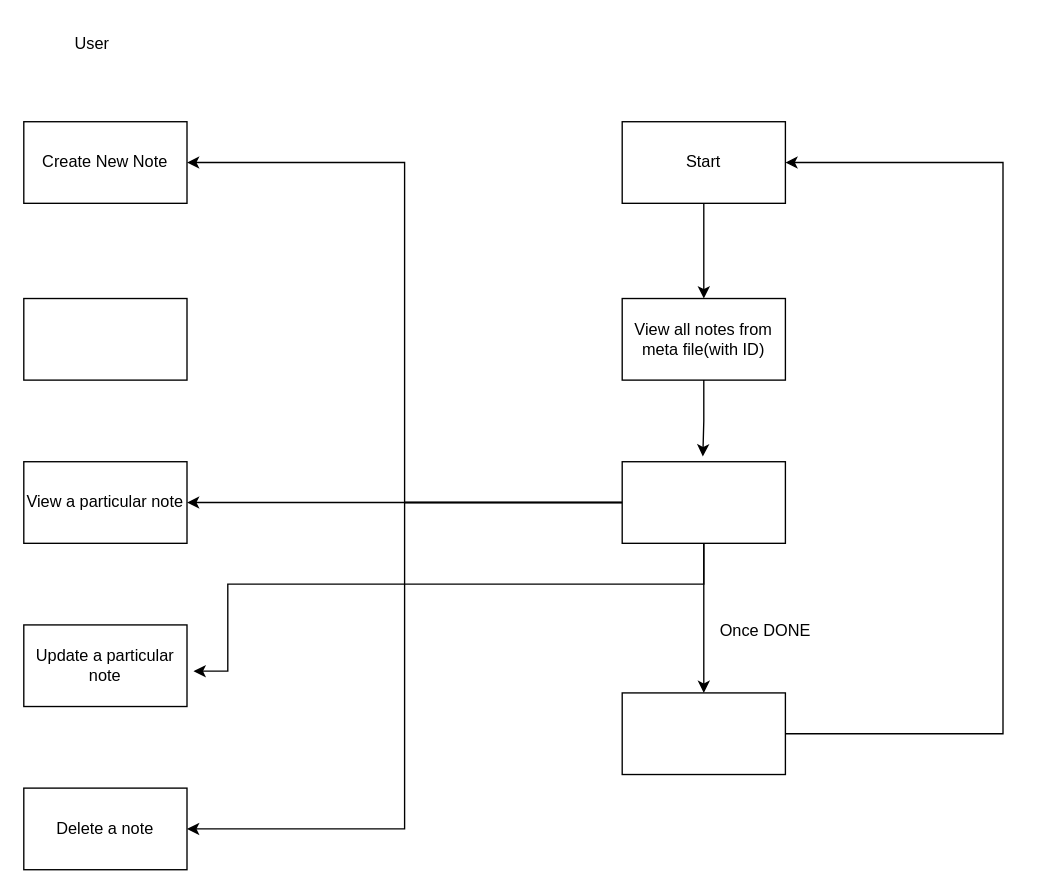
The diagram is 1038 pixels wide and 894 high, and some of its shapes have lost their labels. The centre of each missing label's shape, as x and y in pixels:
"MENU to ask for operation" goes at (x=703, y=501).
"Update Meta file" goes at (x=703, y=733).
"View all notes" goes at (x=104, y=338).
